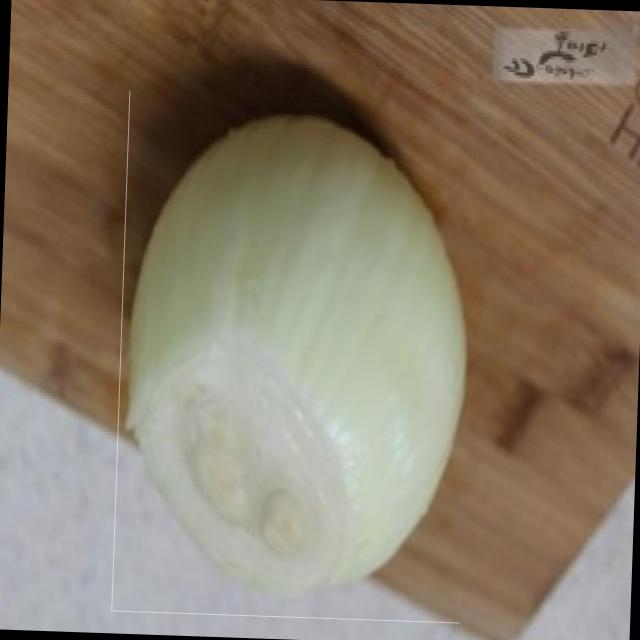Onion: (110, 90, 478, 623)
